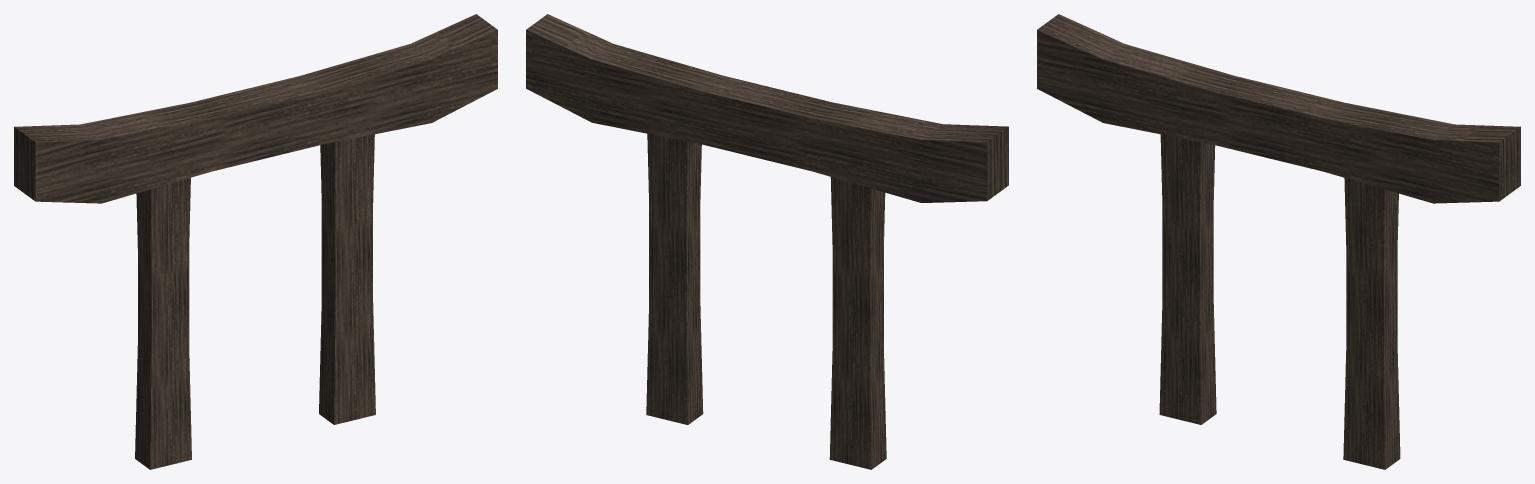
The model's file is toldo-entrada3.fbx.
3 views of the same model, side by side, from view 1: azimuth 30°, elevation 25°; view 2: azimuth 150°, elevation 25°; view 3: azimuth 330°, elevation 25° (orthographic).
Visible parts, largest first — view 1: Cube.003; view 2: Cube.003; view 3: Cube.003.
Boxes of the visible parts, left/top/right/bottom form: Cube.003: left=14, top=14, right=497, bottom=469; Cube.003: left=526, top=14, right=1008, bottom=469; Cube.003: left=1037, top=14, right=1520, bottom=469.
Bounding box in the file's own units: 3.16 × 2.35 × 0.2553.
